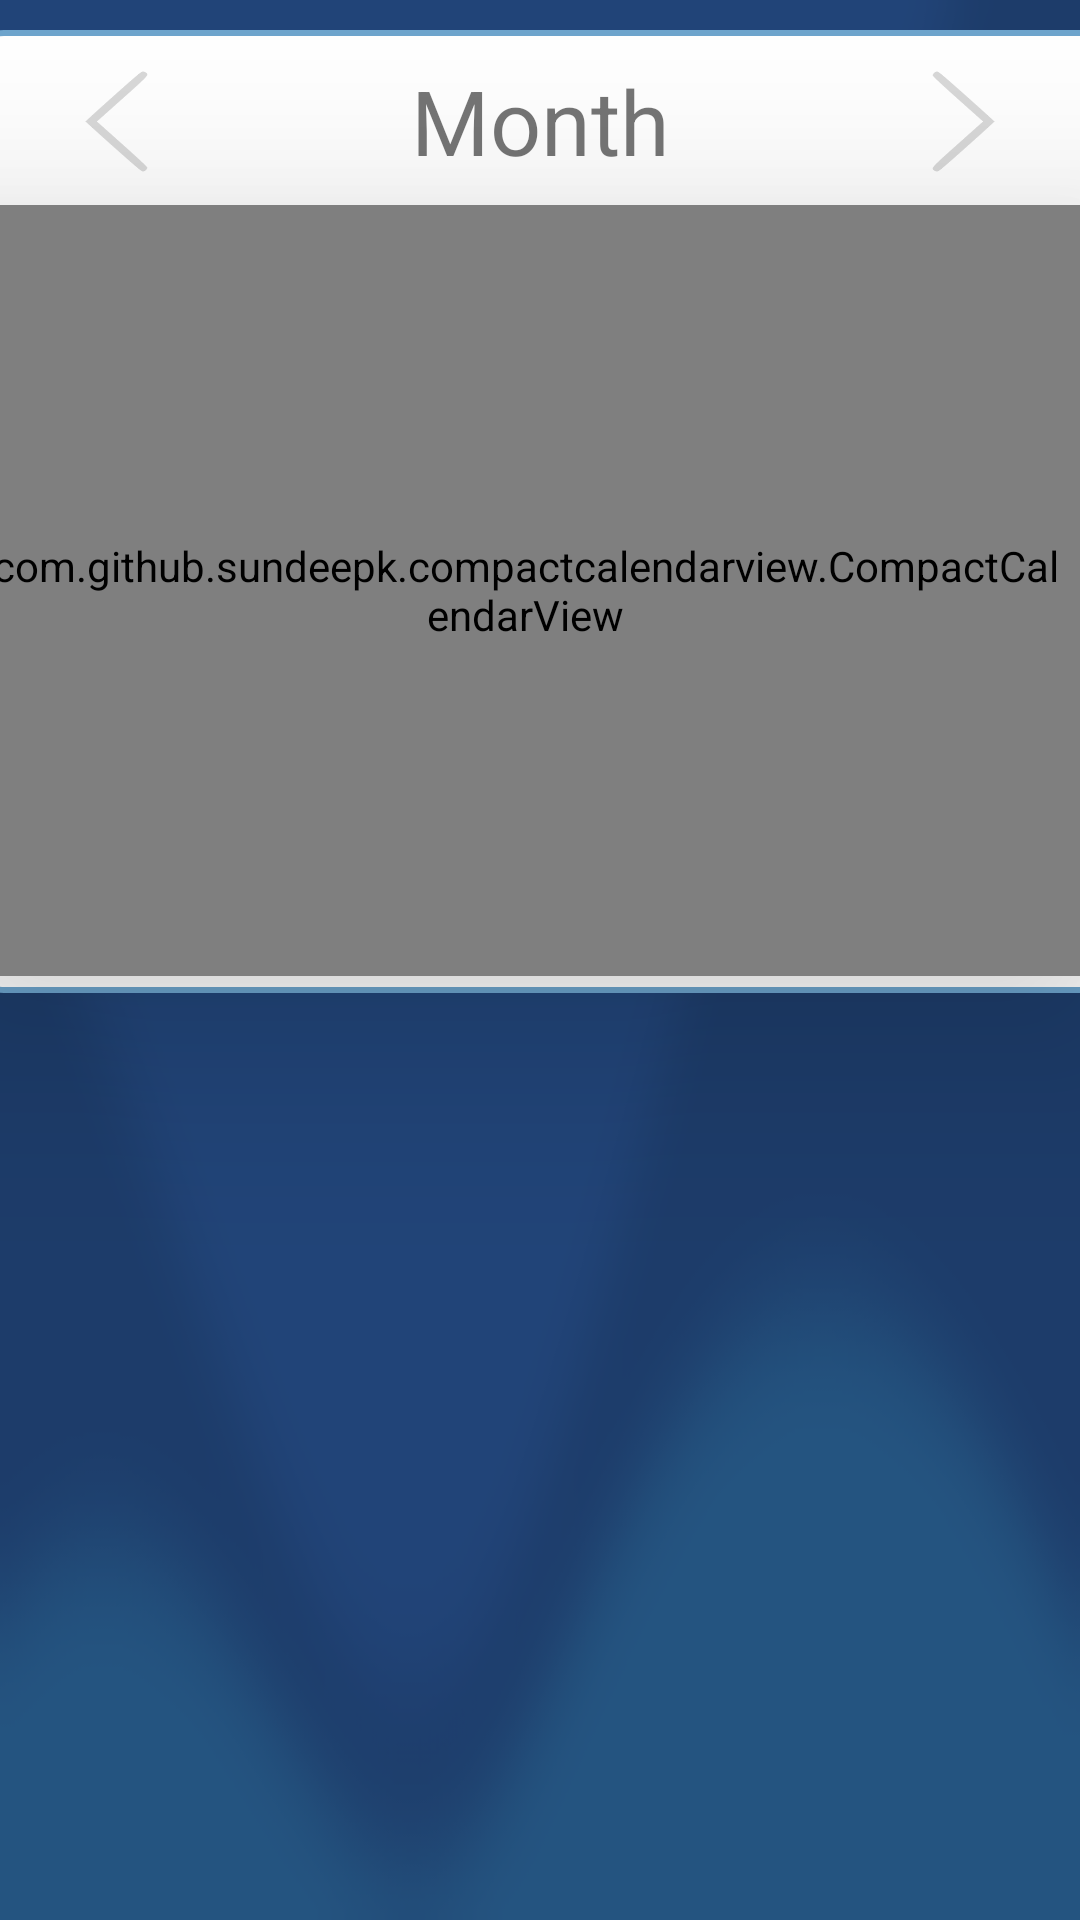

Icon click points for this 1080w x 1920h phone screenshot, format [x,y]:
left: [116,121]
right: [963,121]
